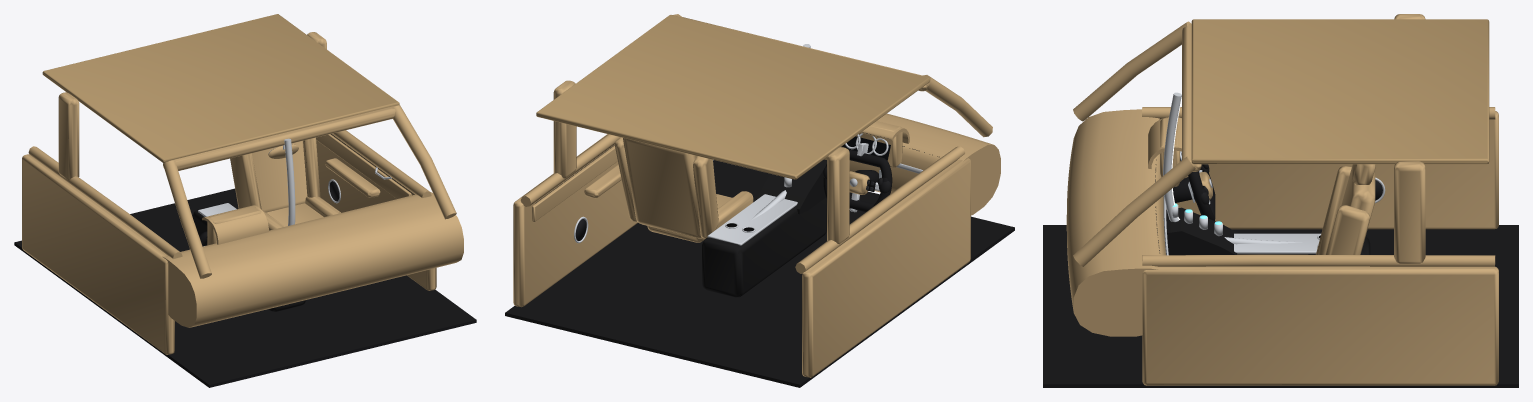
The model's file is int_bugatti.glb.
3 renders of one model, left to right at view 1: azimuth 30°, elevation 25°; view 2: azimuth 150°, elevation 25°; view 3: azimuth 270°, elevation 25°, orthographic. The views are drawn at different scales.
Parts seen in each view (by area): view 1: box.011, Dash, box.013, box, box.010, box.003, box.016, DoorTop, box.006, Pillar.001, Pillar, box.004 (+10 smaller); view 2: box.011, box.013, box, box.003, box.014, box.016, Dash, DoorTop, box.006, box.015, Stack, box.017 (+11 smaller); view 3: box.011, box.003, Dash, box.013, box, DoorTop.001, box.008, Pillar.001, Pillar, Stack, box.019, box.015 (+9 smaller).
Boxes of the visible parts, bbox=[...] form: box.011: bbox=[42, 14, 399, 163]; Dash: bbox=[162, 192, 463, 327]; box.013: bbox=[14, 188, 476, 387]; box: bbox=[22, 154, 174, 354]; box.010: bbox=[163, 106, 395, 170]; box.003: bbox=[316, 130, 436, 290]; box.016: bbox=[252, 141, 307, 212]; DoorTop: bbox=[28, 146, 182, 258]; box.006: bbox=[58, 92, 79, 180]; Pillar.001: bbox=[392, 105, 456, 219]; Pillar: bbox=[163, 160, 211, 278]; box.004: bbox=[316, 134, 411, 198]; box.011: bbox=[536, 15, 929, 179]; box.013: bbox=[505, 160, 1014, 387]; box: bbox=[802, 158, 970, 377]; box.003: bbox=[513, 134, 637, 307]; box.014: bbox=[702, 197, 826, 297]; box.016: bbox=[623, 138, 701, 238]; Dash: bbox=[824, 113, 1000, 215]; DoorTop: bbox=[795, 146, 964, 273]; box.006: bbox=[827, 147, 849, 244]; box.015: bbox=[707, 194, 797, 245]; Stack: bbox=[756, 159, 826, 214]; box.017: bbox=[693, 156, 718, 238]; box.011: bbox=[1191, 19, 1489, 164]; box.003: bbox=[1142, 266, 1498, 385]; Dash: bbox=[1066, 109, 1165, 336]; box.013: bbox=[1043, 225, 1518, 387]; box: bbox=[1166, 111, 1498, 229]; DoorTop.001: bbox=[1142, 254, 1495, 266]; box.008: bbox=[1394, 161, 1425, 263]; Pillar.001: bbox=[1073, 156, 1195, 266]; Pillar: bbox=[1073, 21, 1191, 121]; Stack: bbox=[1166, 207, 1238, 255]; box.019: bbox=[1325, 205, 1369, 254]; box.015: bbox=[1234, 233, 1320, 253].
Bounding box in the file's own units: 1.93 × 1.22 × 2.4.
